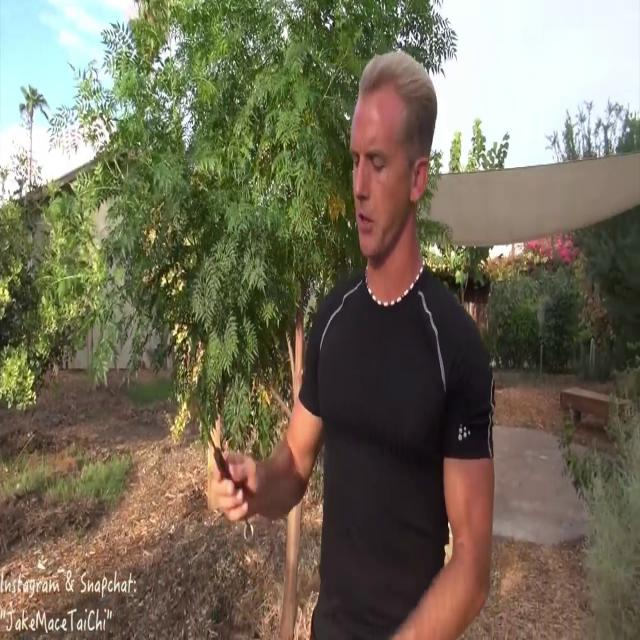knife: (180, 351, 230, 504)
